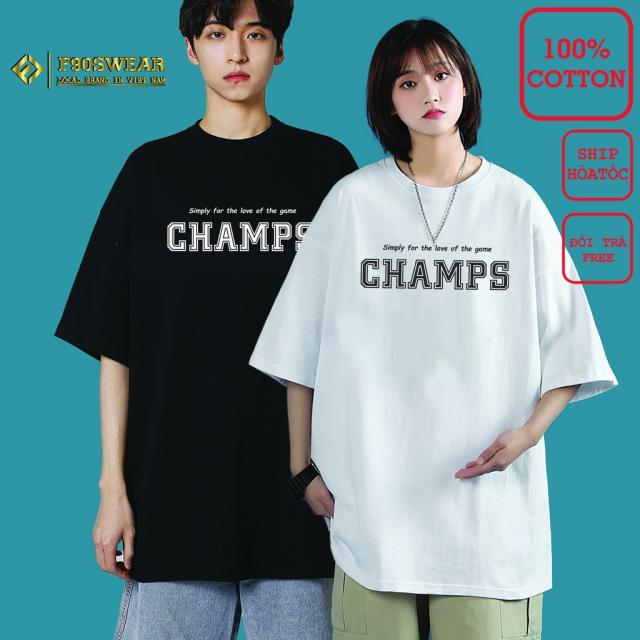Shirt: (248, 150, 618, 596), (48, 119, 360, 577)
